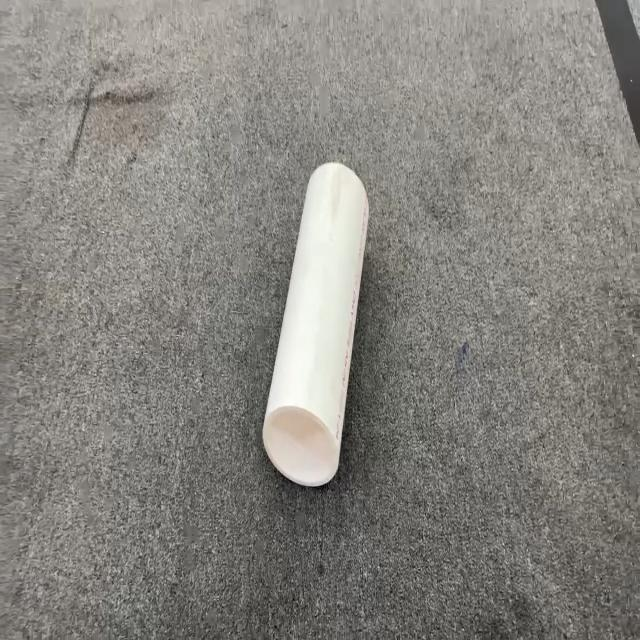coral: (261, 160, 369, 487)
